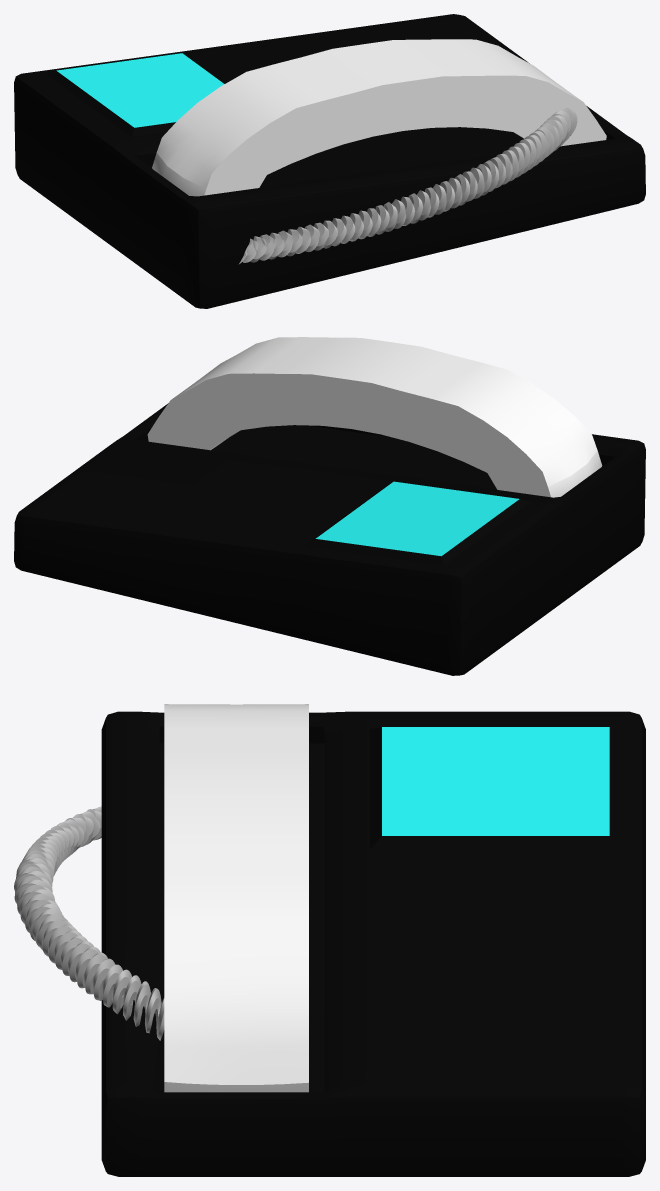
File: Telefono_Pared.fbx
The picture shows the model from 3 angles, top to bottom: view 1: azimuth 30°, elevation 25°; view 2: azimuth 150°, elevation 25°; view 3: azimuth 270°, elevation 25°; orthographic projection. The views are drawn at different scales.
Visible parts, largest first — view 1: Box029; view 2: Box029; view 3: Box029.
Part boxes in pixels (box(x1,y1,x2,y2)): Box029: box(14, 14, 645, 308); Box029: box(14, 337, 645, 675); Box029: box(14, 704, 645, 1176).
Bounding box in the file's own units: 24.67 × 8.54 × 20.52.
